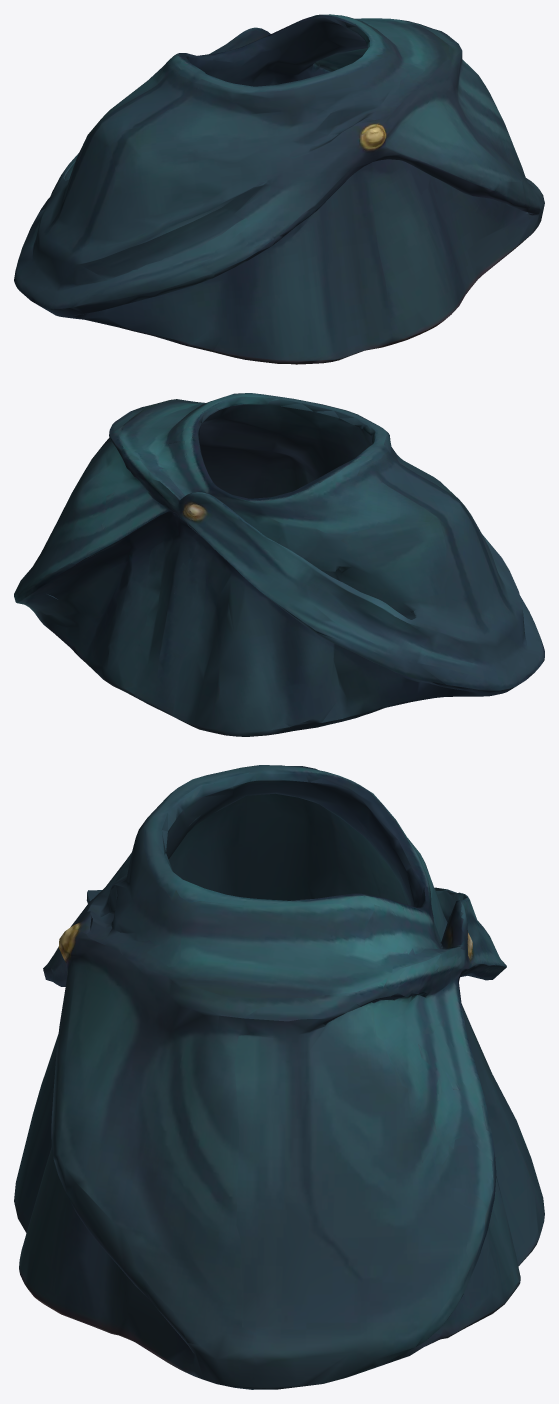
File: mage_m_cloak.glb
3 views of the same model, one above another, from view 1: azimuth 30°, elevation 25°; view 2: azimuth 150°, elevation 25°; view 3: azimuth 270°, elevation 25° (orthographic). The views are drawn at different scales.
Visible parts, largest first — view 1: world; view 2: world; view 3: world.
Part boxes in pixels (left/top/right/bottom): world: left=14, top=14, right=544, bottom=364; world: left=14, top=393, right=544, bottom=736; world: left=14, top=765, right=544, bottom=1389.
Size of the model in its own units: 0.62 by 0.2999 by 0.35.
Materials: 1 (1 with a texture image).
